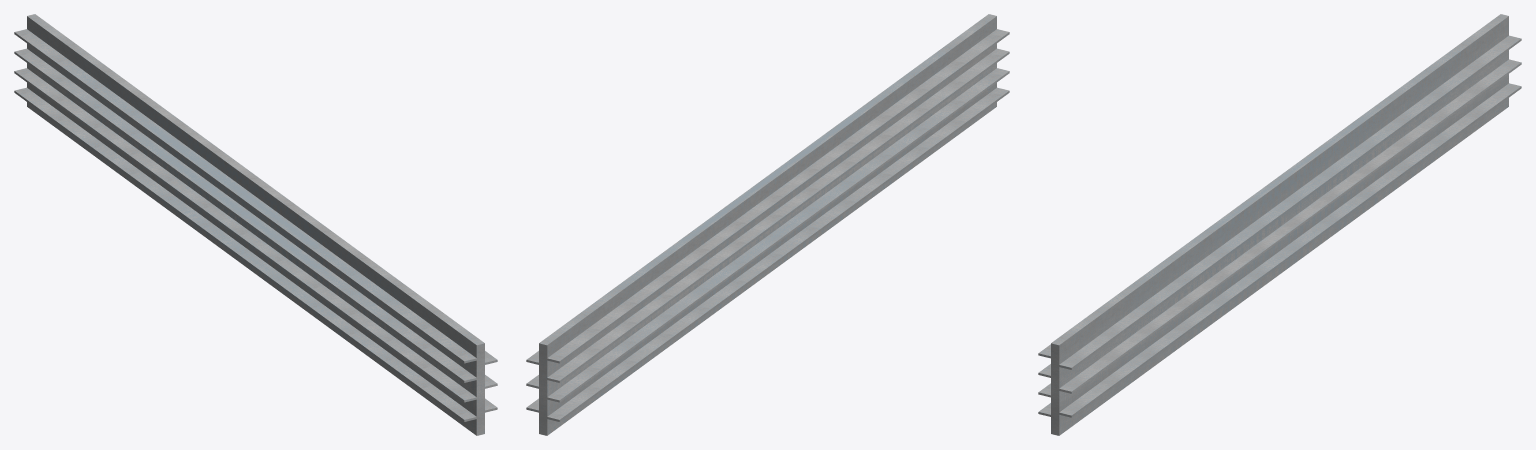
Rendered from twoSidedShelf43.fbx.
3 renders of one model, left to right at view 1: azimuth 30°, elevation 25°; view 2: azimuth 150°, elevation 25°; view 3: azimuth 330°, elevation 25°, orthographic.
Parts seen in each view (by area): view 1: Model; view 2: Model; view 3: Model.
Boxes of the visible parts, box(x1,y1,x2,y2) form: Model: box(14, 14, 497, 435); Model: box(526, 14, 1009, 435); Model: box(1038, 14, 1521, 435).
Size of the model in its own units: 0.8 by 2.09 by 18.8.
